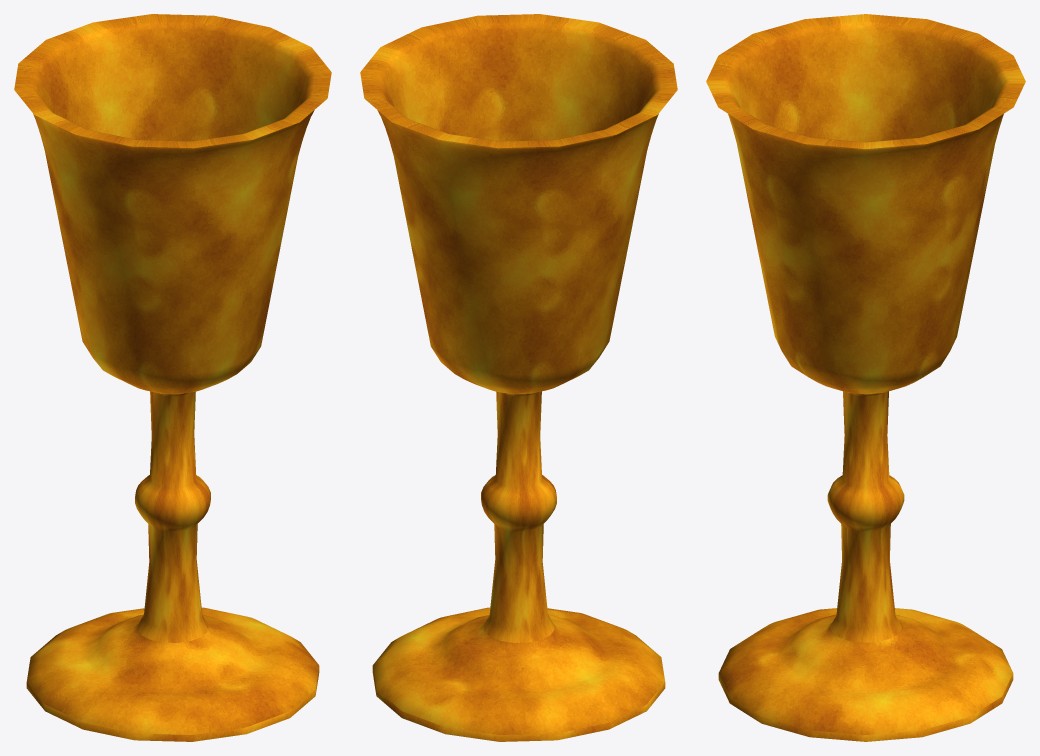
The model's file is glass.FBX.
The picture shows the model from 3 angles, left to right: view 1: azimuth 30°, elevation 25°; view 2: azimuth 150°, elevation 25°; view 3: azimuth 270°, elevation 25°; orthographic projection.
Visible parts, largest first — view 1: glass; view 2: glass; view 3: glass.
Boxes of the visible parts, x1,y1,x2,y2 form: glass: (14, 14, 331, 741); glass: (360, 14, 677, 741); glass: (706, 14, 1025, 741).
Bounding box in the file's own units: 0.1088 × 0.1088 × 0.2245.
